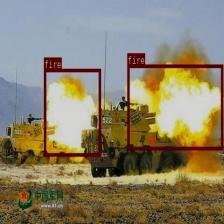fire: (128, 64, 222, 150), (44, 69, 100, 156)
